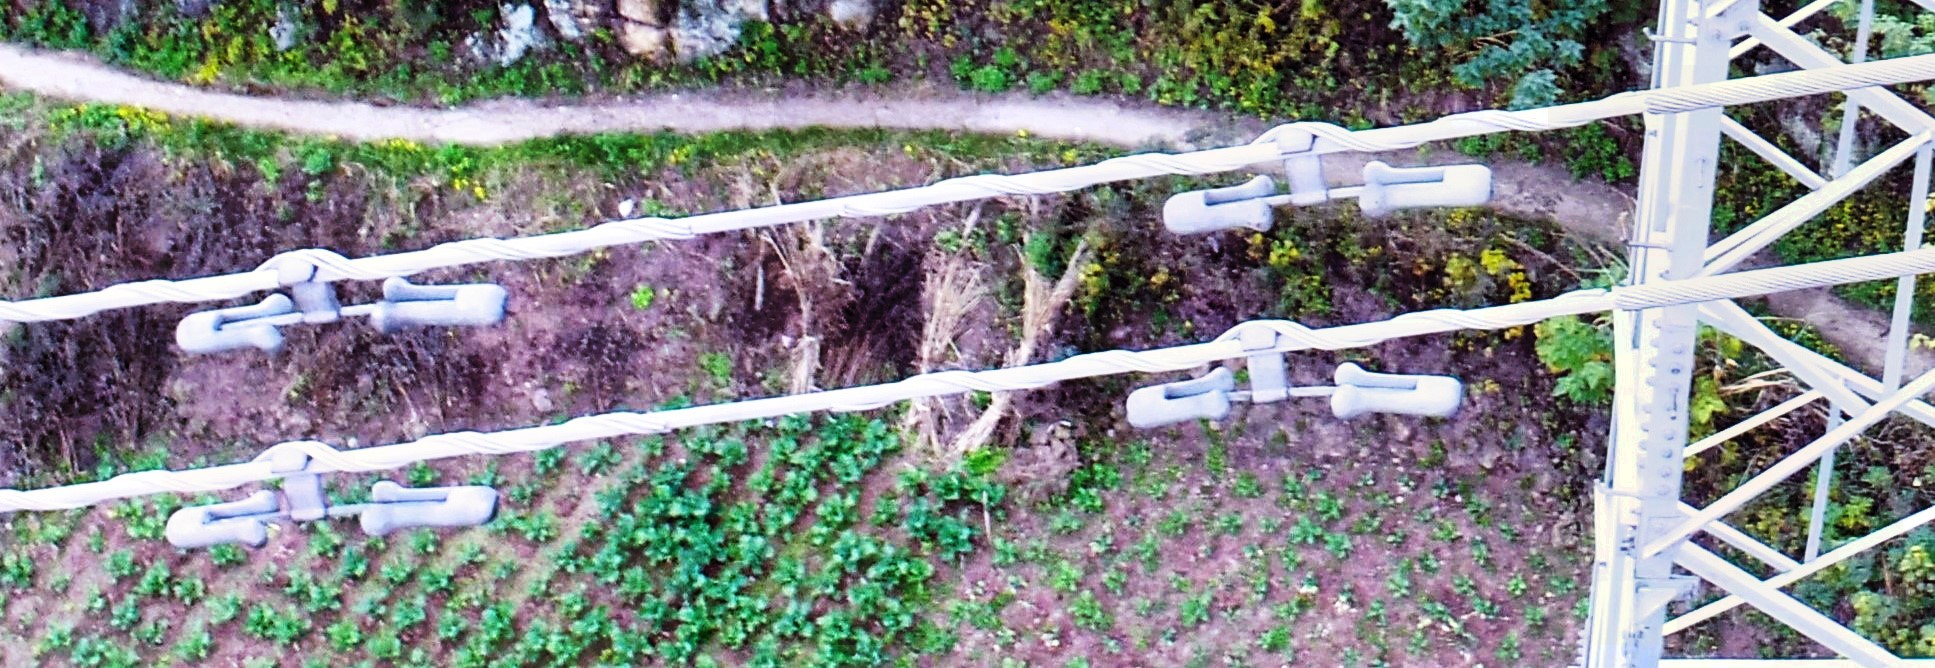Shockproof hammer: (1112, 289, 1473, 445), (162, 410, 503, 558), (169, 223, 521, 361), (1145, 115, 1506, 244)
